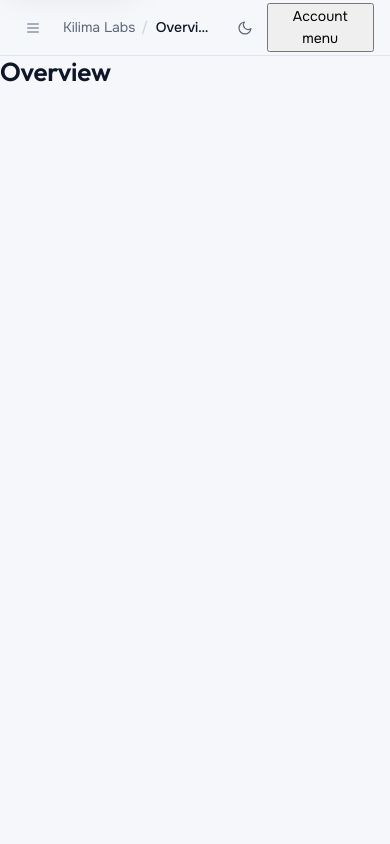
Test: AppShell › closes the navigation once a link in it has navigated
Click the button named "Open navigation" at (34, 28), box [16,10,51,46]
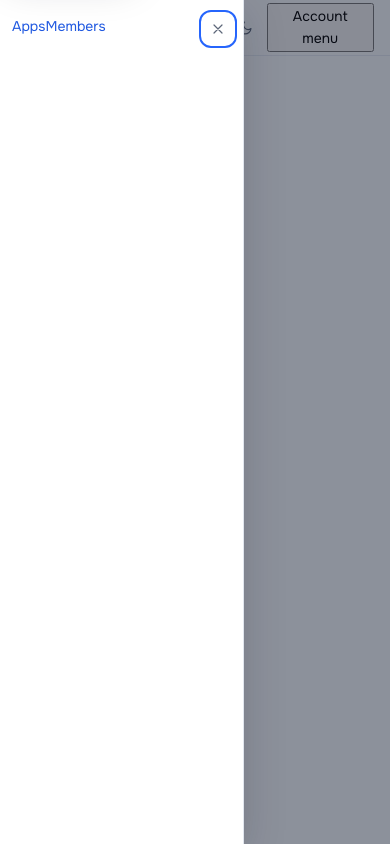
expect the dialog is shown: met
